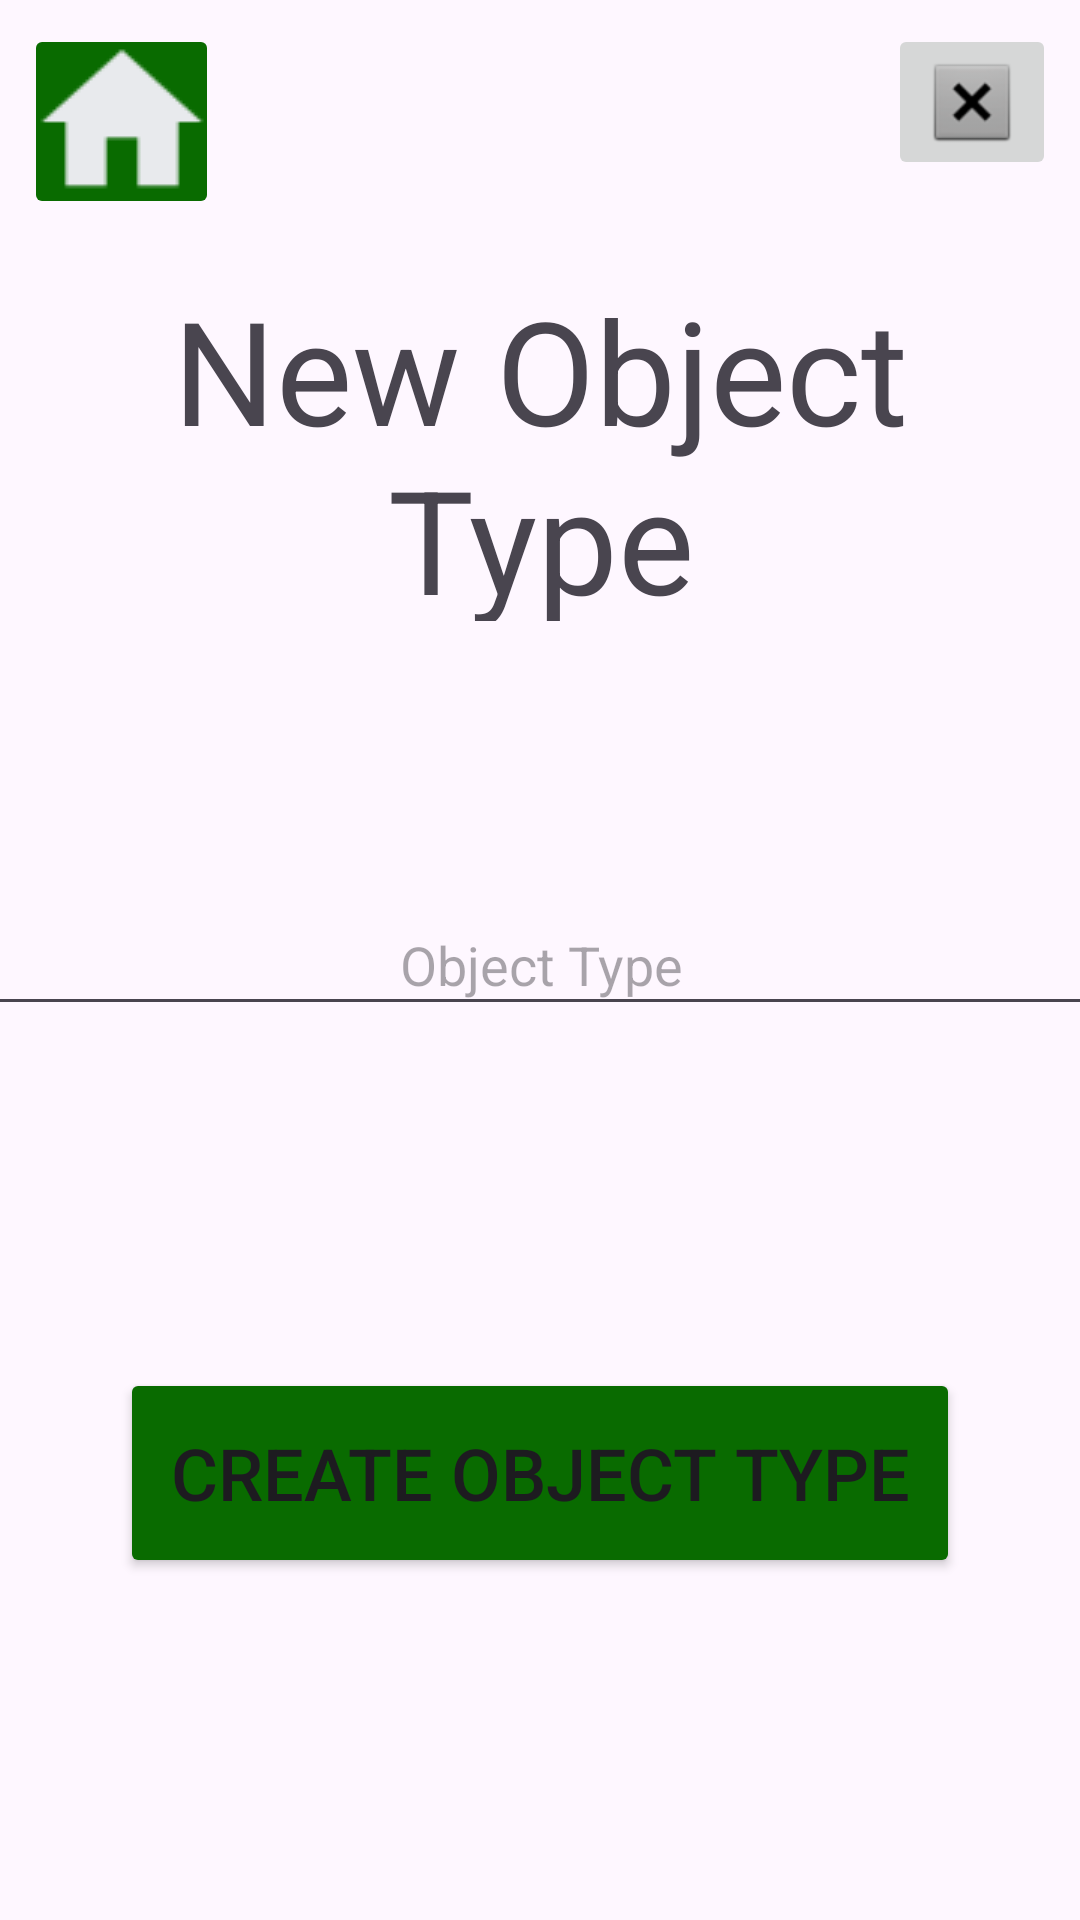

Icon bounding boxes for this 1080px×1920px phone screenshot, format (x1, y1, x2, y2):
homebtn: (36, 42, 207, 201)
